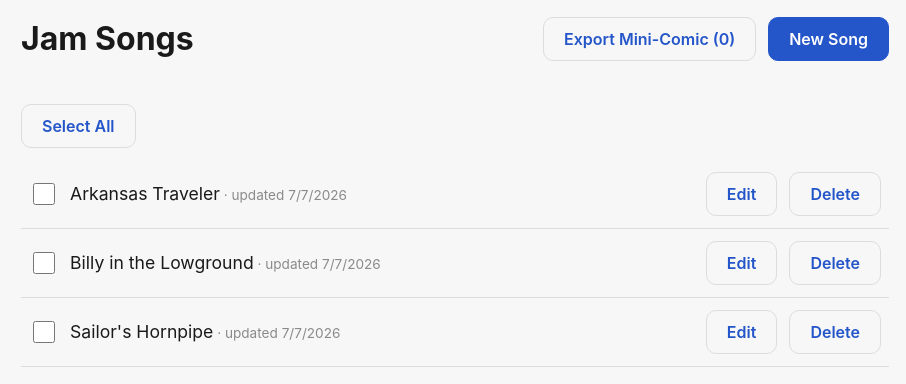
SongLibraryPage › Select All checks every song and enables export with the right count
Expected: the text "Arkansas Traveler" is shown, [70,183,220,204]
Click the button "Select All" at (78, 126), box [21,104,136,148]
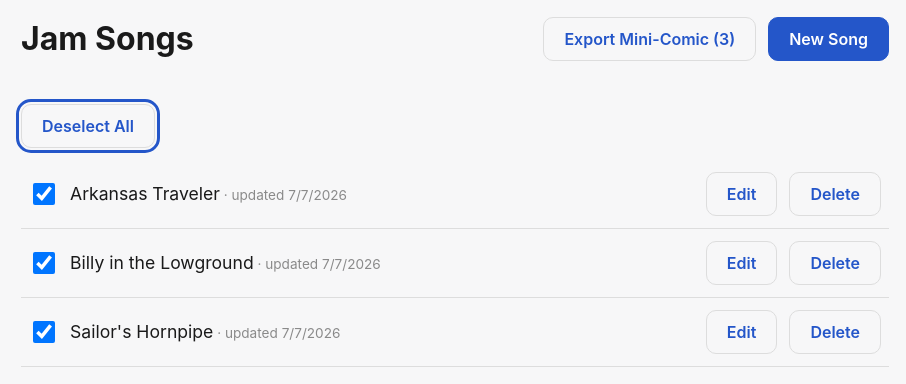
Expected: the checkbox named "Select Arkansas Traveler for export" is checked, [33,183,55,205]
Expected: the checkbox named "Select Sailor's Hornpipe for export" is checked, [33,321,55,343]
Expected: the button "Export Mini-Comic (3)" is enabled, [543,17,756,61]
